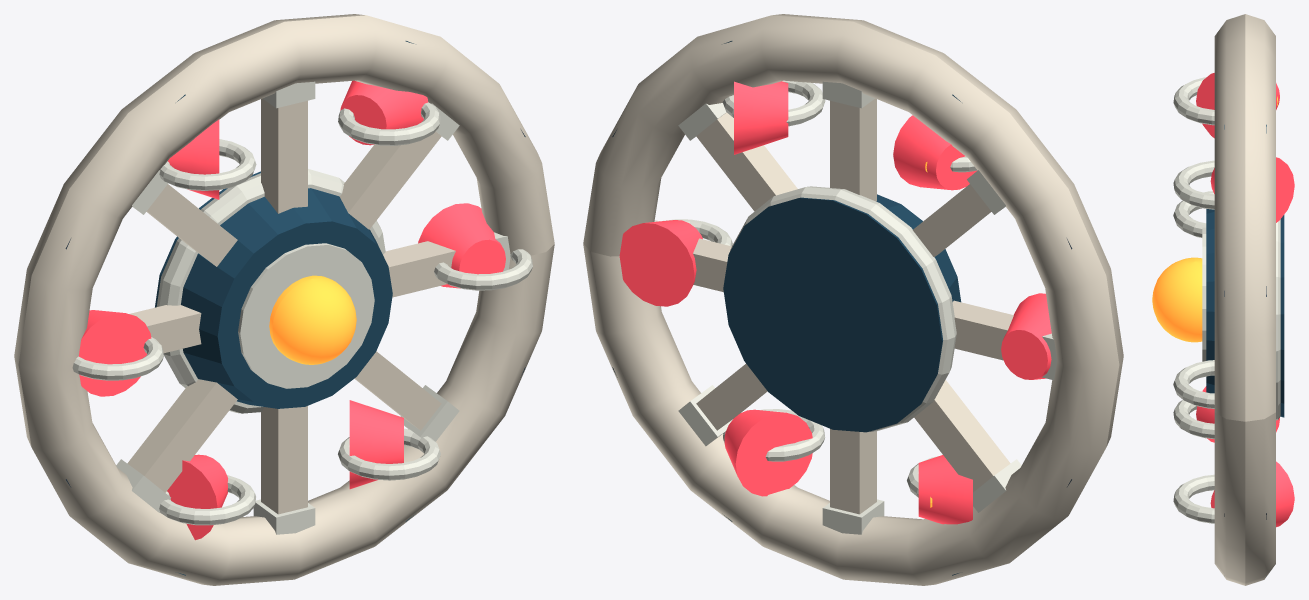
Rendered from guardian-medium.glb.
The picture shows the model from 3 angles, left to right: view 1: azimuth 30°, elevation 25°; view 2: azimuth 150°, elevation 25°; view 3: azimuth 270°, elevation 25°; orthographic projection. The views are drawn at different scales.
Parts seen in each view (by area): view 1: motion-wheel, porcelain_static, hull_static, accent_static, telegraph_socket (×6), exposed_core; view 2: motion-wheel, accent_static, hull_static, telegraph_socket (×6), porcelain_static; view 3: motion-wheel, porcelain_static, exposed_core, telegraph_socket (×4), accent_static.
Part boxes in pixels (x1=…): motion-wheel: x1=14, y1=14, x2=554, y2=585; porcelain_static: x1=72, y1=81, x2=532, y2=534; hull_static: x1=127, y1=98, x2=455, y2=514; accent_static: x1=155, y1=41, x2=413, y2=575; telegraph_socket (×6): x1=78, y1=80, x2=505, y2=540; exposed_core: x1=269, y1=275, x2=356, y2=364; motion-wheel: x1=583, y1=14, x2=1123, y2=585; accent_static: x1=723, y1=41, x2=961, y2=575; hull_static: x1=693, y1=98, x2=1013, y2=514; telegraph_socket (×6): x1=619, y1=81, x2=1051, y2=524; porcelain_static: x1=654, y1=80, x2=1057, y2=534; motion-wheel: x1=1214, y1=14, x2=1275, y2=585; porcelain_static: x1=1173, y1=77, x2=1280, y2=523; exposed_core: x1=1152, y1=257, x2=1202, y2=342; telegraph_socket (×4): x1=1196, y1=73, x2=1294, y2=527; accent_static: x1=1206, y1=124, x2=1284, y2=576.
Size of the model in its own units: 3400 by 3400 by 842.
